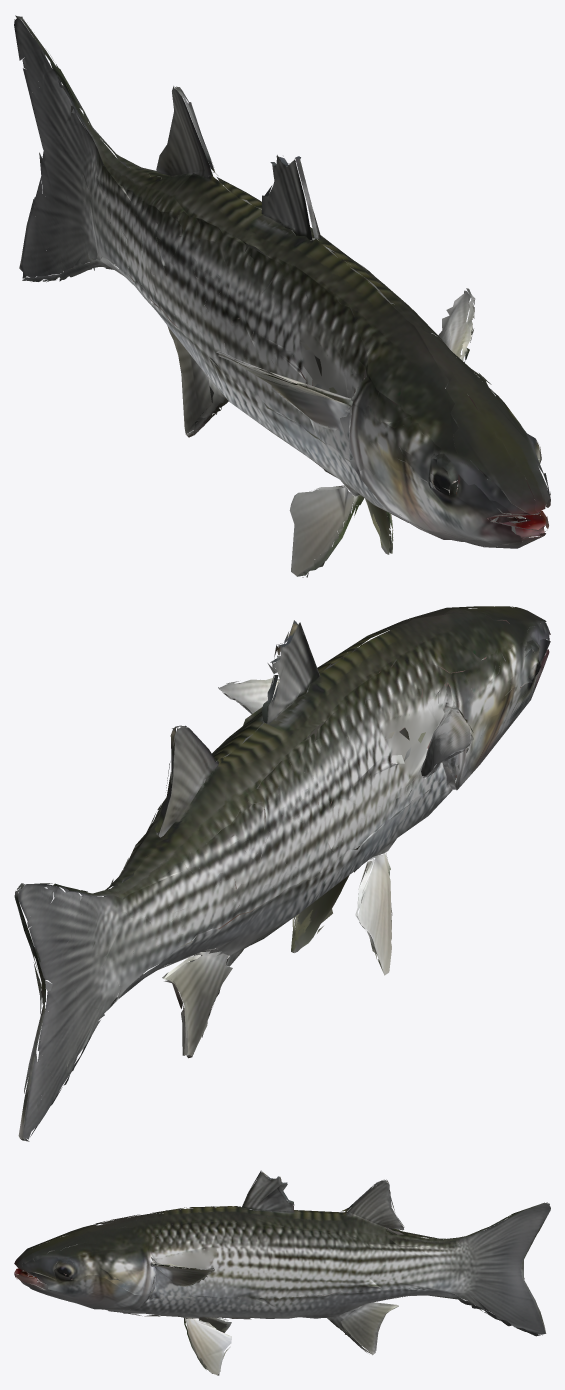
File: mullet.glb
3 views of the same model, one above another, from view 1: azimuth 30°, elevation 25°; view 2: azimuth 150°, elevation 25°; view 3: azimuth 270°, elevation 25° (orthographic). The views are drawn at different scales.
Parts seen in each view (by area): view 1: mullet.001; view 2: mullet.001; view 3: mullet.001.
Boxes of the visible parts, x1=… form: mullet.001: x1=14, y1=15, x2=550, y2=577; mullet.001: x1=14, y1=606, x2=550, y2=1141; mullet.001: x1=14, y1=1170, x2=550, y2=1375.
Size of the model in its own units: 0.2799 by 0.3988 by 0.9998.
Materials: 1 (1 with a texture image).
